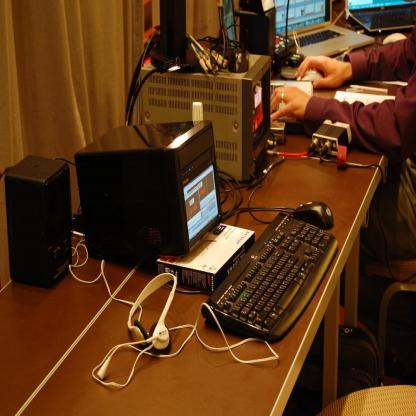board: (274, 0, 375, 60), (345, 0, 416, 33)
